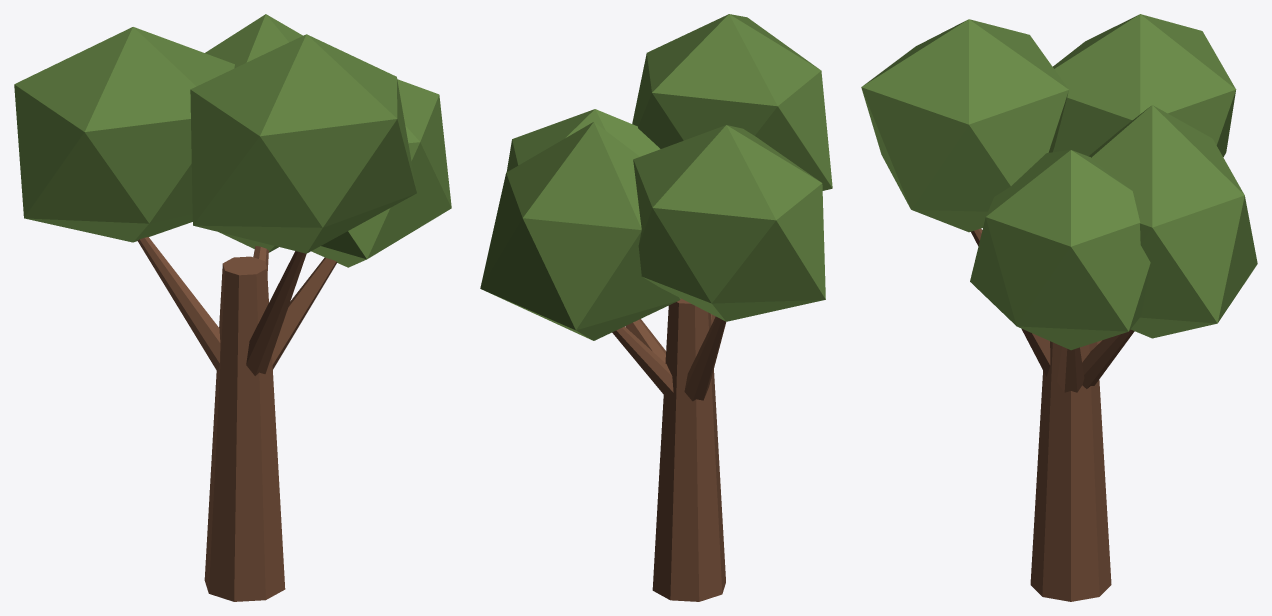
Rendered from tree_medium_a.glb.
3 renders of one model, left to right at view 1: azimuth 30°, elevation 25°; view 2: azimuth 150°, elevation 25°; view 3: azimuth 270°, elevation 25°, orthographic. The views are drawn at different scales.
Visible parts, largest first — view 1: tree_medium_a; view 2: tree_medium_a; view 3: tree_medium_a.
Part boxes in pixels (x1,y1,x2,y2): tree_medium_a: [14, 14, 451, 601]; tree_medium_a: [480, 14, 832, 601]; tree_medium_a: [861, 14, 1257, 601].
Bounding box in the file's own units: 4.4 × 6.5 × 4.1.
